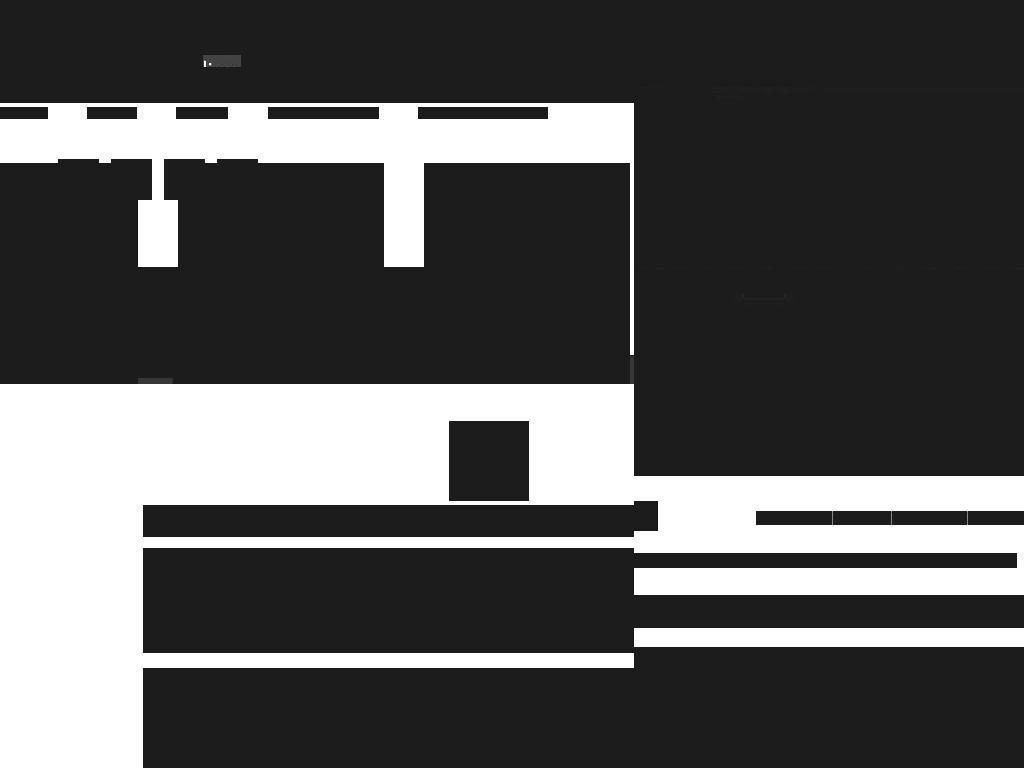button: (634, 647, 1024, 768), (634, 0, 1024, 87), (0, 163, 138, 384), (178, 266, 384, 384), (424, 266, 630, 384), (178, 163, 384, 266), (424, 163, 630, 266), (634, 595, 1024, 628), (816, 553, 1017, 568), (173, 371, 313, 384), (323, 371, 463, 384), (58, 159, 99, 200), (111, 159, 152, 200), (164, 159, 205, 200), (217, 159, 258, 200), (328, 314, 420, 332), (418, 107, 548, 119), (268, 107, 379, 119), (281, 55, 379, 67), (756, 511, 832, 525), (892, 511, 967, 525), (693, 553, 758, 568), (634, 553, 693, 568), (758, 553, 816, 568), (833, 511, 891, 525), (968, 511, 1024, 525), (100, 55, 154, 67), (176, 107, 228, 119), (87, 107, 137, 119), (0, 107, 48, 119), (203, 55, 241, 67), (163, 55, 194, 67)
heading: (143, 548, 634, 653), (634, 176, 1024, 226), (143, 505, 634, 537), (202, 290, 360, 384), (457, 291, 597, 367), (634, 670, 788, 718), (458, 369, 600, 384), (454, 369, 536, 384)
iframe: (0, 0, 634, 103), (634, 384, 1024, 476)
image: (634, 0, 1024, 87), (0, 163, 138, 384), (178, 163, 384, 266), (424, 163, 630, 266), (449, 421, 529, 501), (58, 159, 99, 200), (111, 159, 152, 200), (164, 159, 205, 200), (217, 159, 258, 200), (744, 293, 784, 298)
link: (13, 291, 513, 330), (165, 315, 326, 330), (174, 291, 258, 306), (198, 363, 263, 378)
text: (143, 668, 634, 768), (13, 315, 527, 378), (13, 267, 501, 306), (634, 595, 1024, 628), (634, 245, 1024, 268), (634, 647, 1024, 670), (260, 291, 373, 306), (265, 363, 364, 378), (70, 315, 163, 330), (0, 55, 97, 67), (13, 267, 24, 282), (153, 55, 165, 67), (193, 55, 205, 67)
